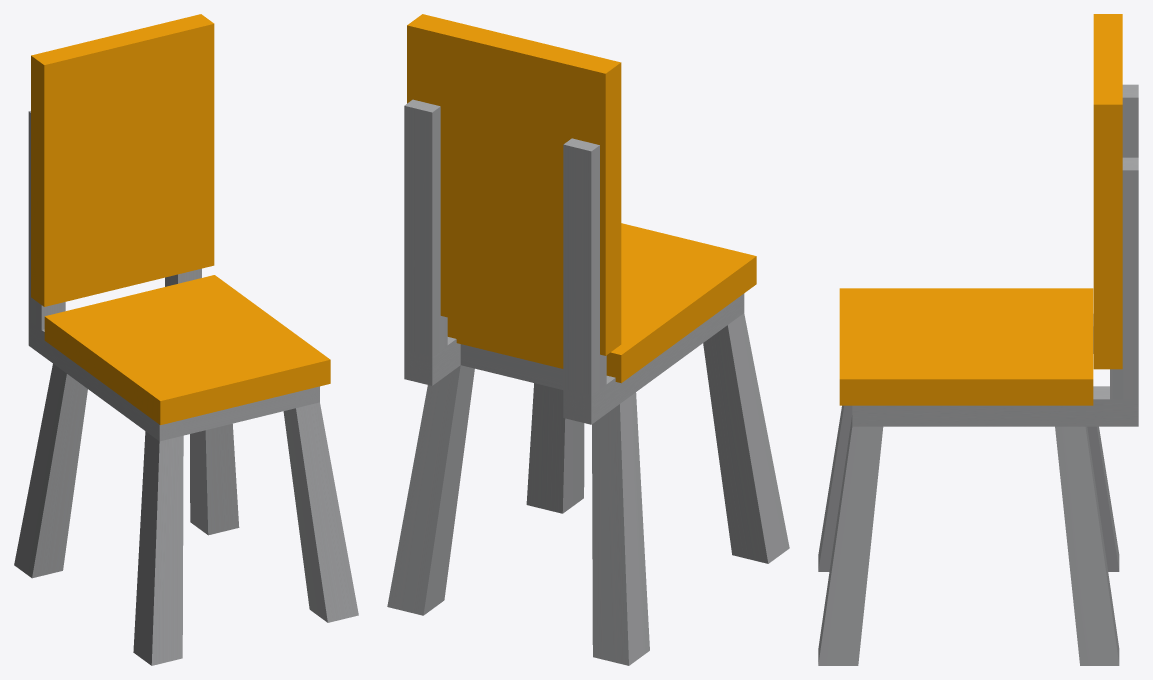
Rendered from BasicChairYellow.fbx.
The picture shows the model from 3 angles, left to right: view 1: azimuth 30°, elevation 25°; view 2: azimuth 150°, elevation 25°; view 3: azimuth 270°, elevation 25°; orthographic projection. The views are drawn at different scales.
Visible parts, largest first — view 1: Cube.002, Cube.001; view 2: Cube.001, Cube.002; view 3: Cube.002, Cube.001.
Part boxes in pixels (left/top/right/bottom): Cube.002: left=31, top=14, right=330, bottom=425; Cube.001: left=14, top=111, right=358, bottom=665; Cube.001: left=387, top=99, right=789, bottom=665; Cube.002: left=407, top=14, right=756, bottom=383; Cube.002: left=839, top=14, right=1122, bottom=405; Cube.001: left=818, top=84, right=1138, bottom=665.
Bounding box in the file's own units: 345 × 803 × 423.
